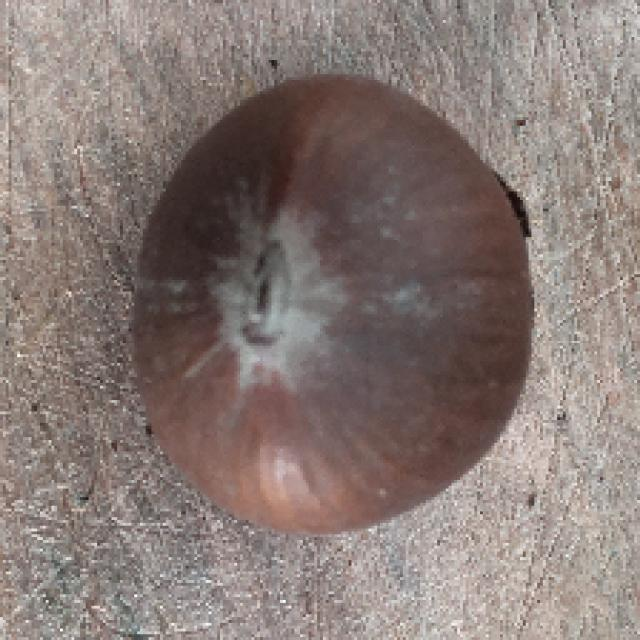damagedHazelnut: (123, 64, 533, 536)
